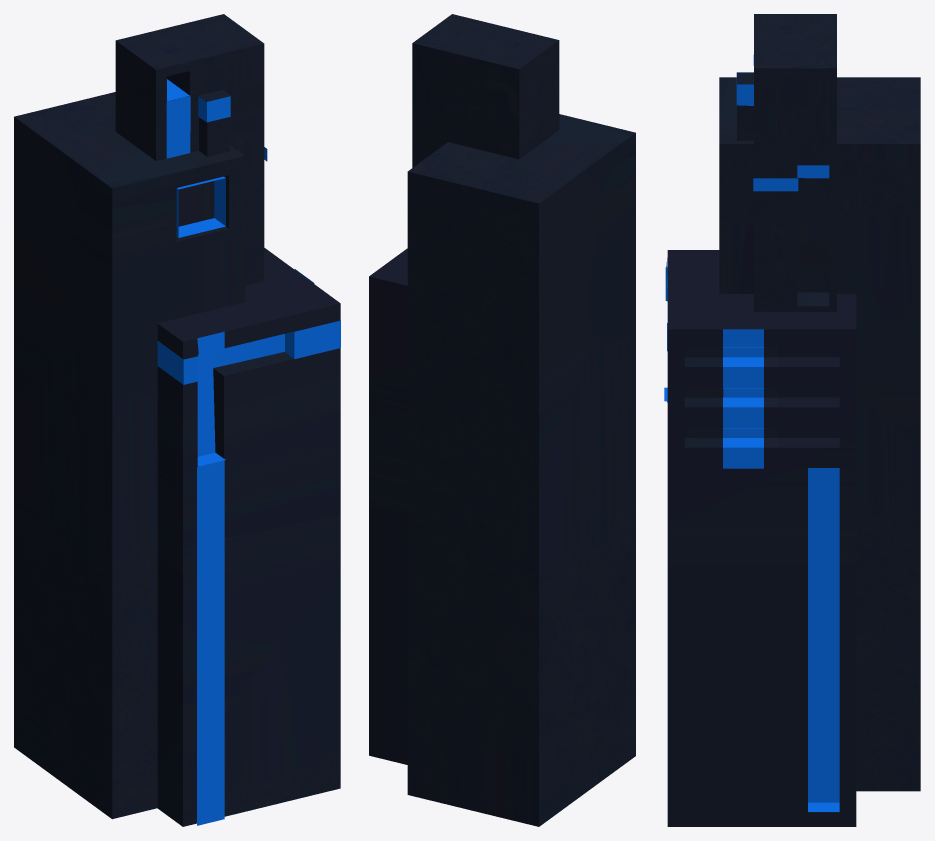
Rendered from Pink Building.fbx.
3 views of the same model, side by side, from view 1: azimuth 30°, elevation 25°; view 2: azimuth 150°, elevation 25°; view 3: azimuth 270°, elevation 25° (orthographic). The views are drawn at different scales.
Visible parts, largest first — view 1: Pink Building, Neon4; view 2: Pink Building; view 3: Pink Building, Neon4.
Boxes of the visible parts, left/top/right/bottom form: Pink Building: left=14, top=14, right=340, bottom=826; Neon4: left=157, top=79, right=340, bottom=825; Pink Building: left=369, top=14, right=635, bottom=826; Pink Building: left=667, top=14, right=920, bottom=826; Neon4: left=664, top=55, right=839, bottom=811.
Size of the model in its own units: 36.55 by 124 by 38.7.
